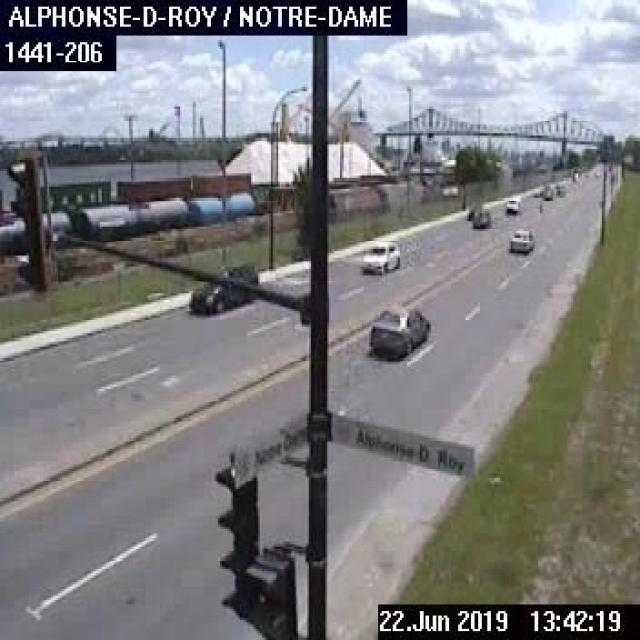vehicle: (186, 262, 256, 314), (367, 300, 429, 358), (360, 238, 400, 273), (508, 228, 534, 252), (469, 209, 490, 228), (504, 193, 522, 212)
